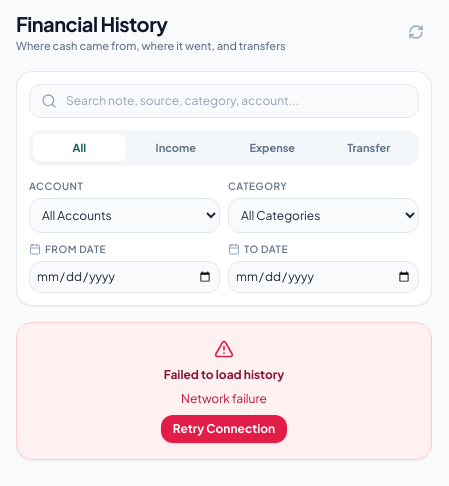
Test: History Page (HistoryPage) › renders error state and handles Retry
Check: the element with test id "error-history" is shown, box [16,322,432,460]
Check: the text "Network failure" is shown, box [181,390,267,406]
Click the button "Retry Connection" at coordinates (224, 428), box [161,414,287,442]
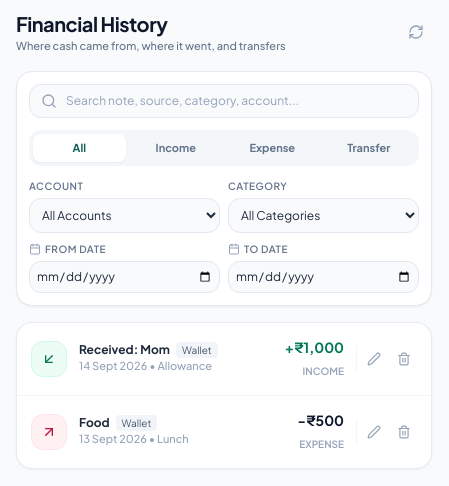
Check: the element with test id "history-list" is shown, box [16,322,432,468]
